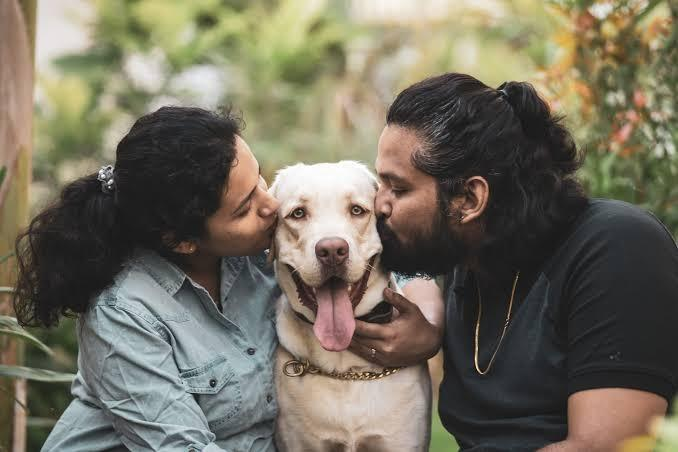adult_dog: (269, 159, 433, 452)
non-dog: (357, 72, 678, 452), (10, 106, 282, 452)
